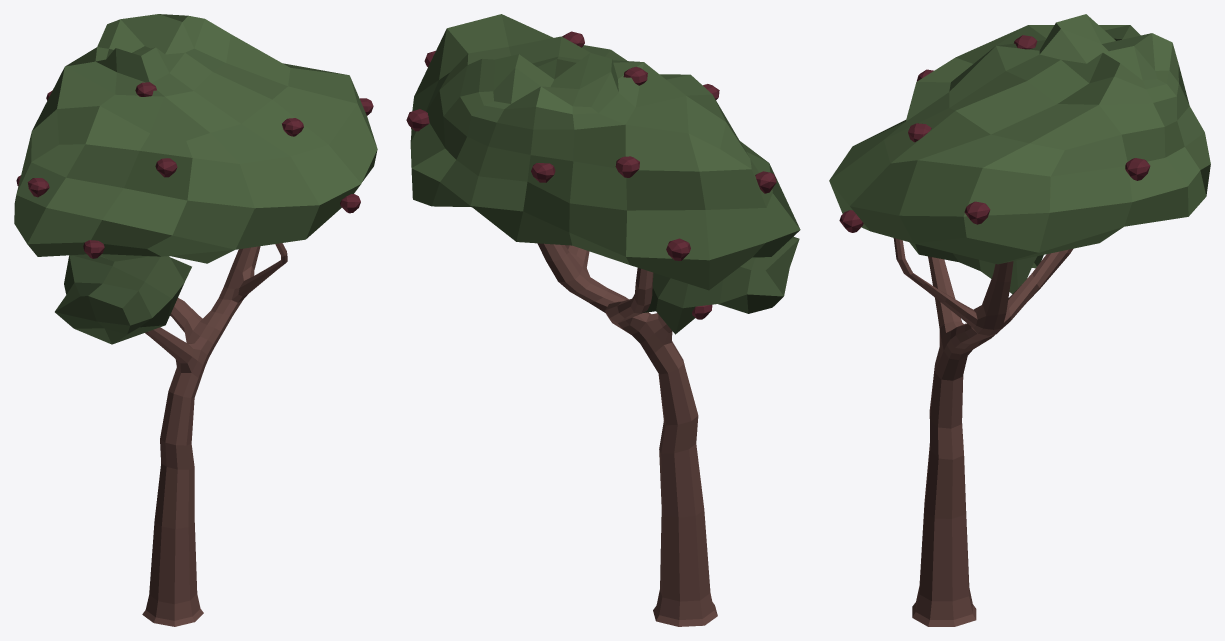
The model's file is Apple_4.gltf.
3 renders of one model, left to right at view 1: azimuth 30°, elevation 25°; view 2: azimuth 150°, elevation 25°; view 3: azimuth 270°, elevation 25°, orthographic. The views are drawn at different scales.
Parts seen in each view (by area): view 1: Apple_4; view 2: Apple_4; view 3: Apple_4.
Boxes of the visible parts, x1,y1,x2,y2 form: Apple_4: (14,14,377,626); Apple_4: (406,14,800,626); Apple_4: (829,14,1210,626).
Size of the model in its own units: 1.86 by 2.76 by 1.58.
